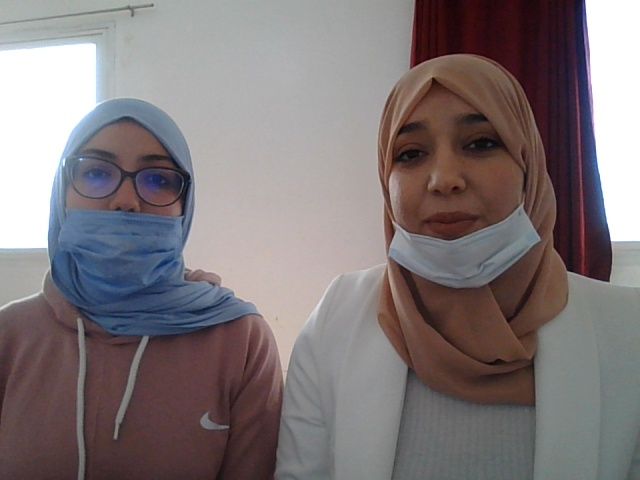mask_weared_incorrect: (363, 65, 575, 284), (49, 100, 198, 282)
